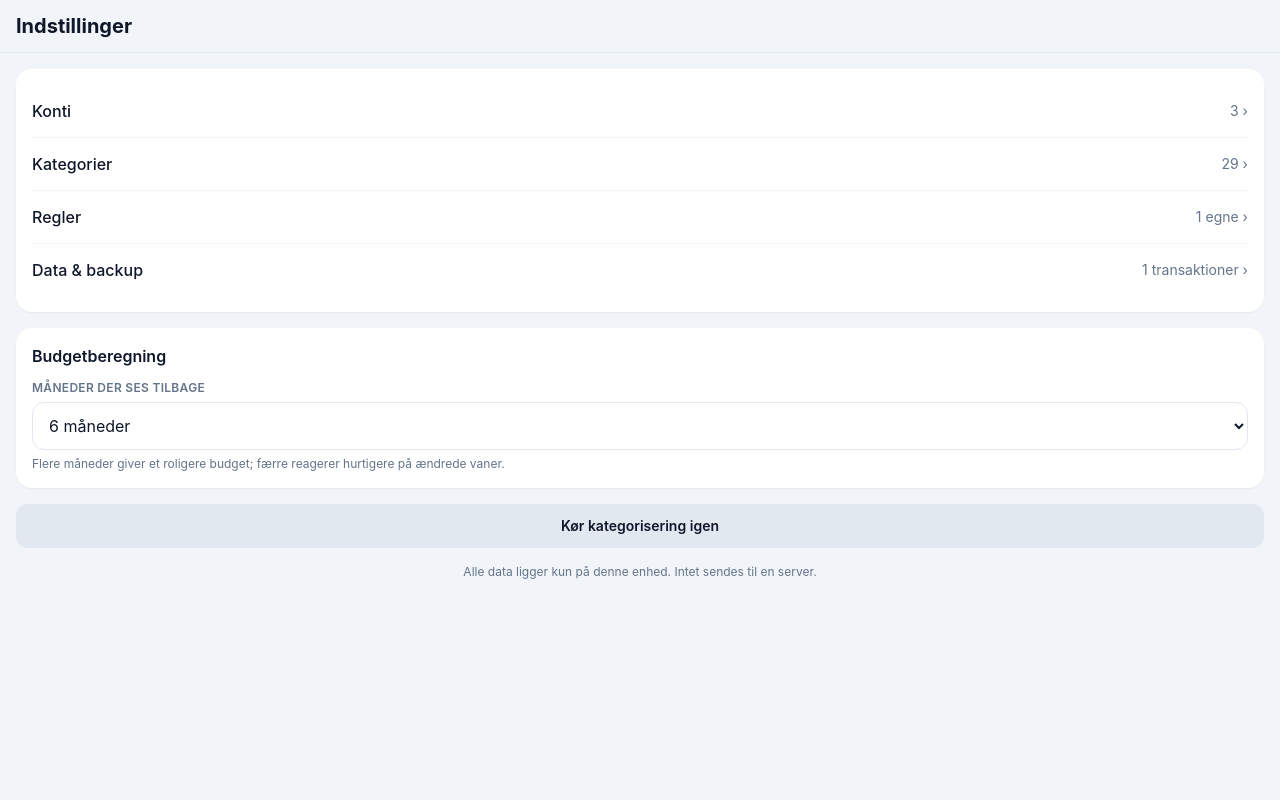
Scenario: editing rules › un-categorises when its rule is deleted
The width and height of the screenshot is (1280, 800).
Click the button "Regler 1 egne ›".
click(57, 217)  # box [32,190,1248,243]
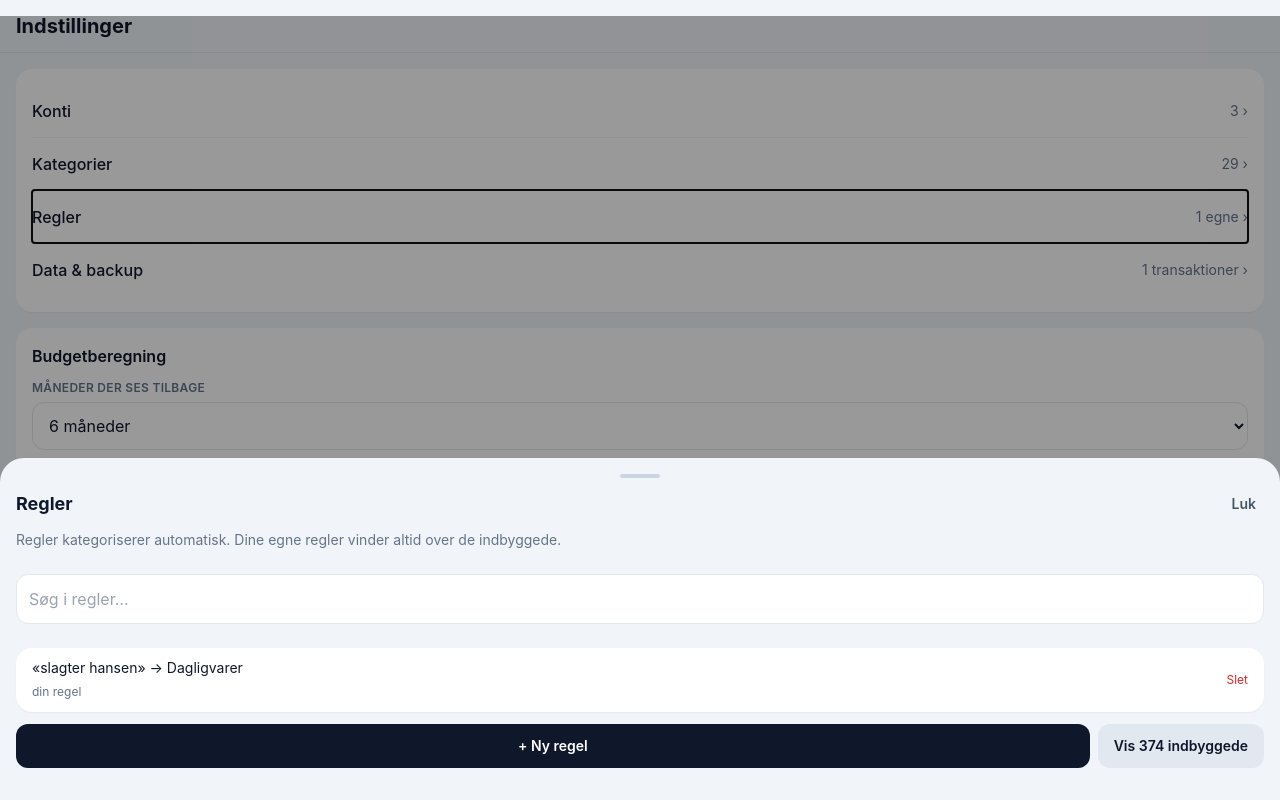
Click the button "Slet".
click(1237, 680)  # box [1226,672,1248,688]
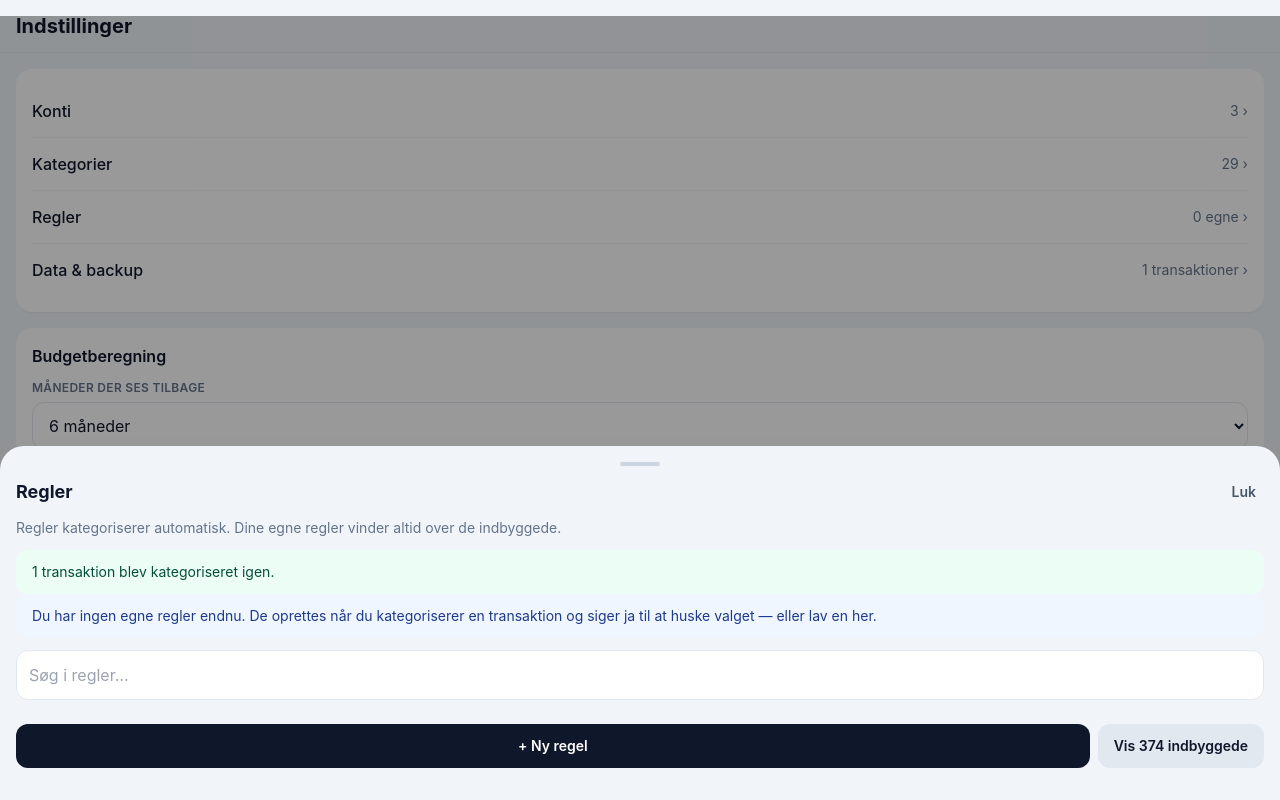
Now the text "1 transaktion blev kategoriseret igen." is shown, box [32,563,274,580]
